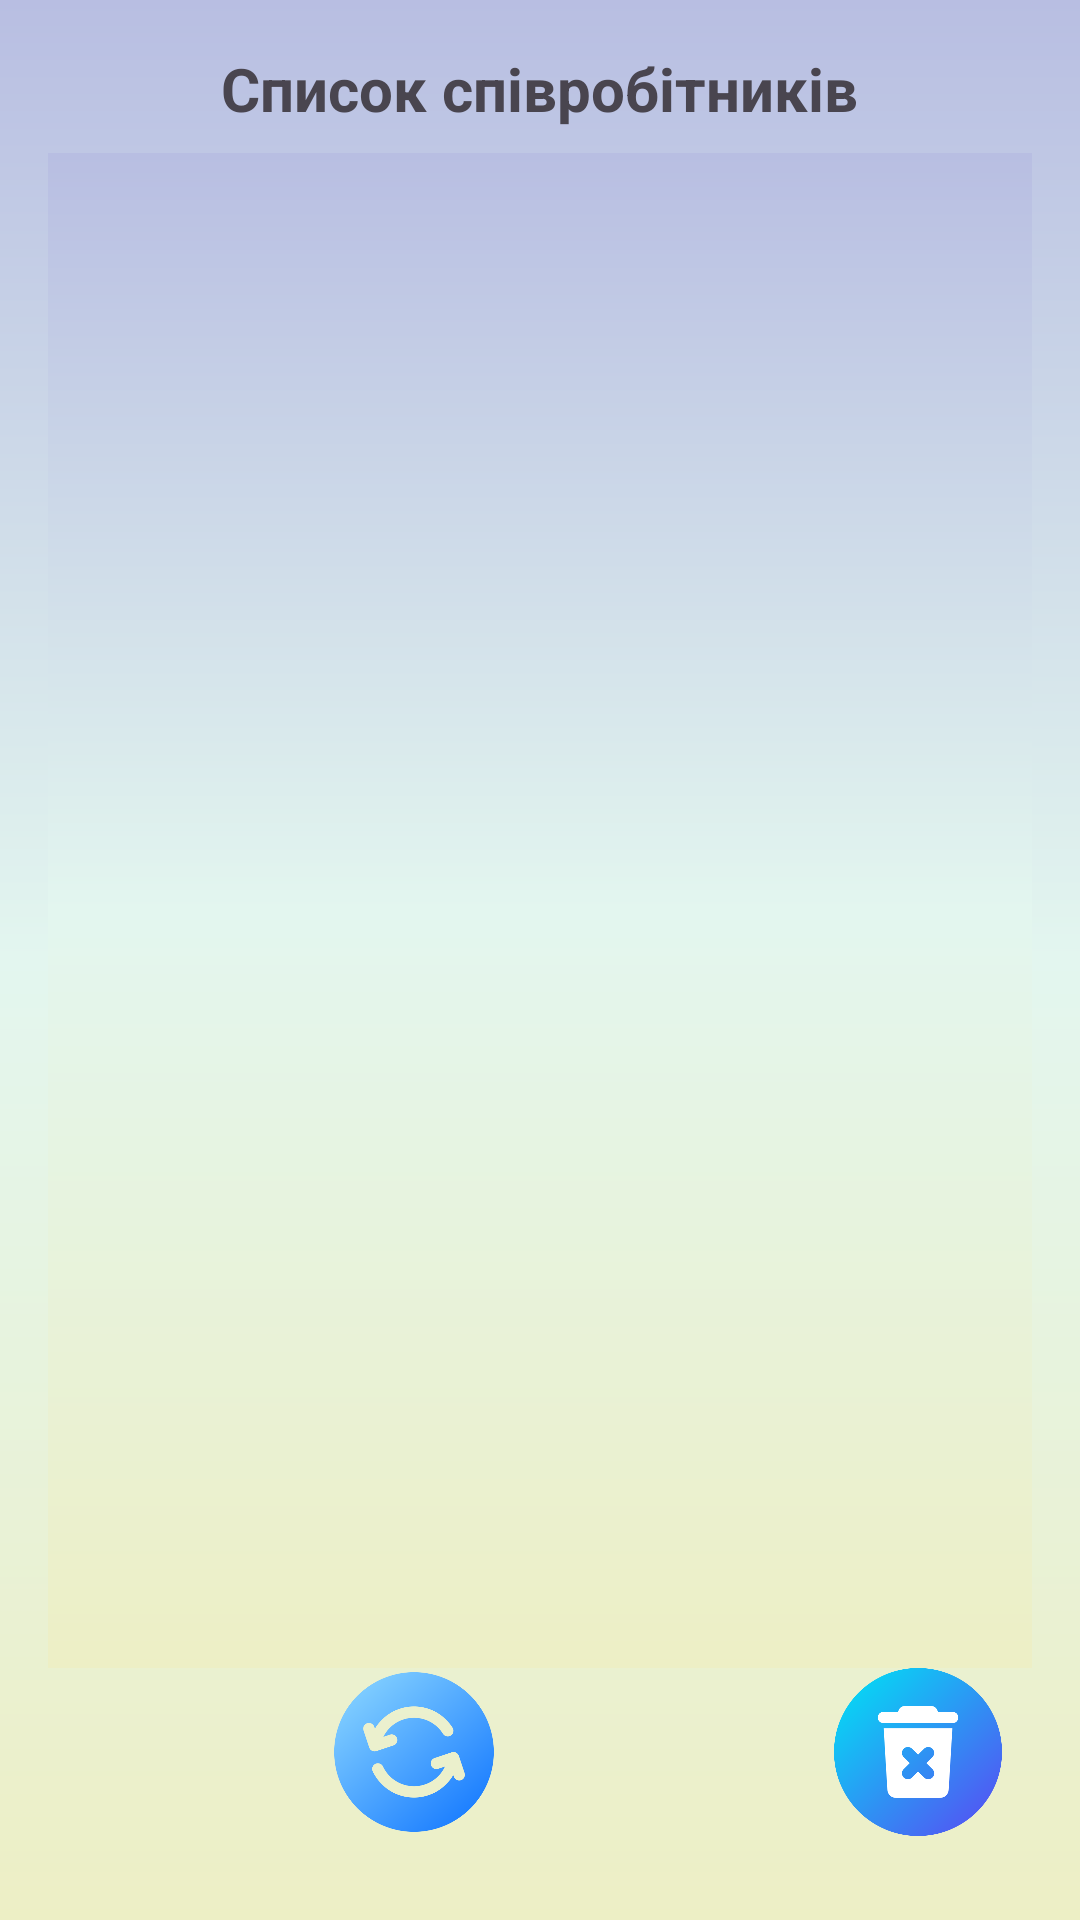

Icon click points for this 1080px×1920px phone screenshot, format point (x, y):
Видалити: point (918, 1752)
Оновити: point (414, 1752)
